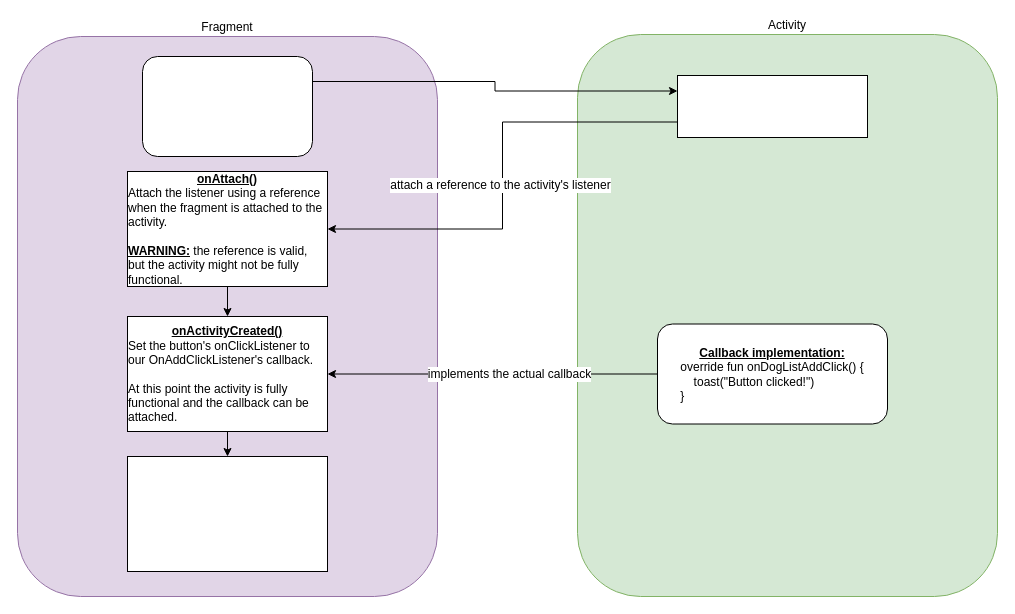
The diagram is 1015 pixels wide and 614 high, and some of its shapes have lost their labels. Each missing label, with the centre of its shape:
activity: Fragment.OnClickListener { ... }: (x=772, y=106)
Listener: interface OnAddClickListener() { fun onAddClick() }: (x=227, y=106)
onDetach() Detach the listener when the fragment is detached from the activity.: (x=227, y=514)
